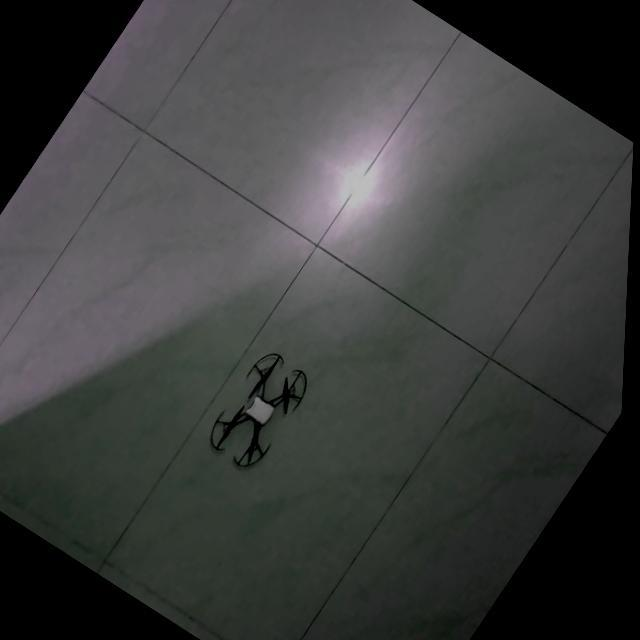drone: (212, 351, 309, 468)
